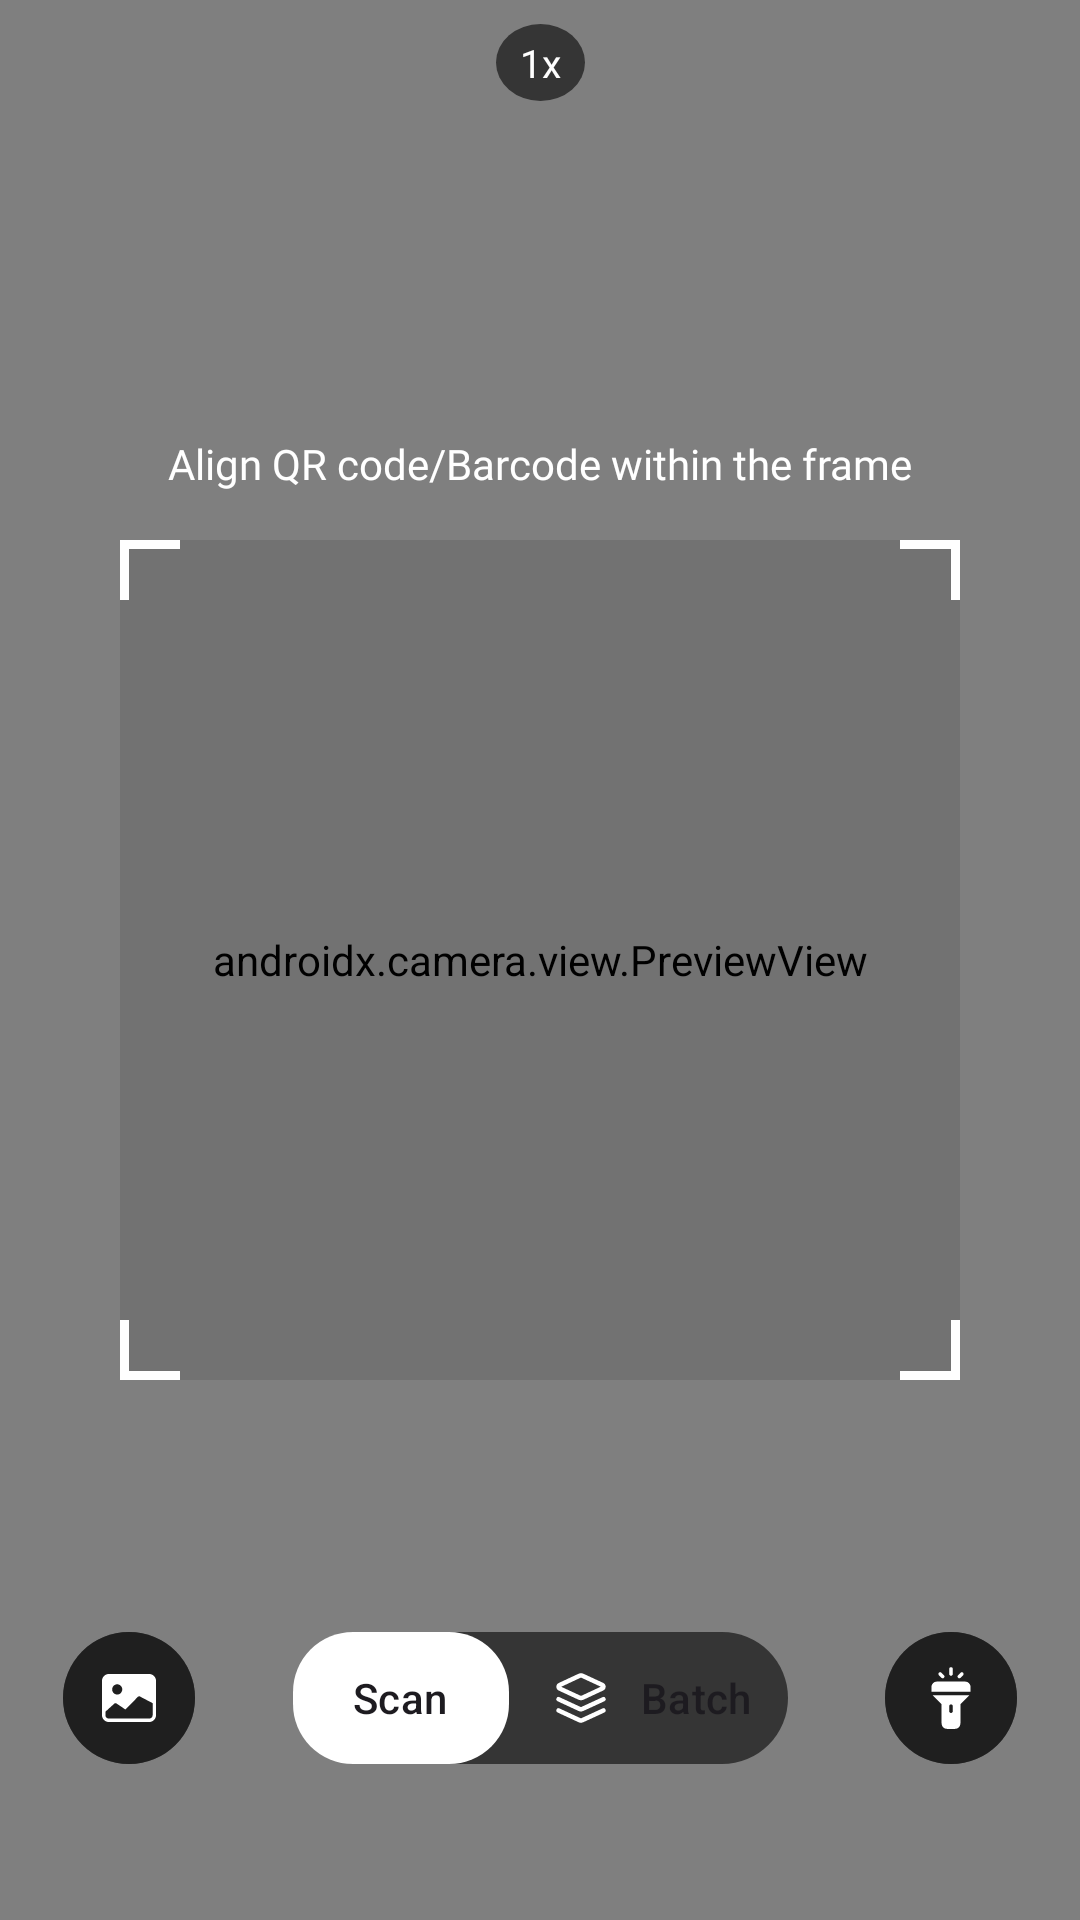

Named icons in this screenshot (1080w x 1920h) and their bounding boxes, (x1,y1,x2,y2):
flashlight: (885,1632,1017,1764)
gallery: (63,1632,195,1764)
